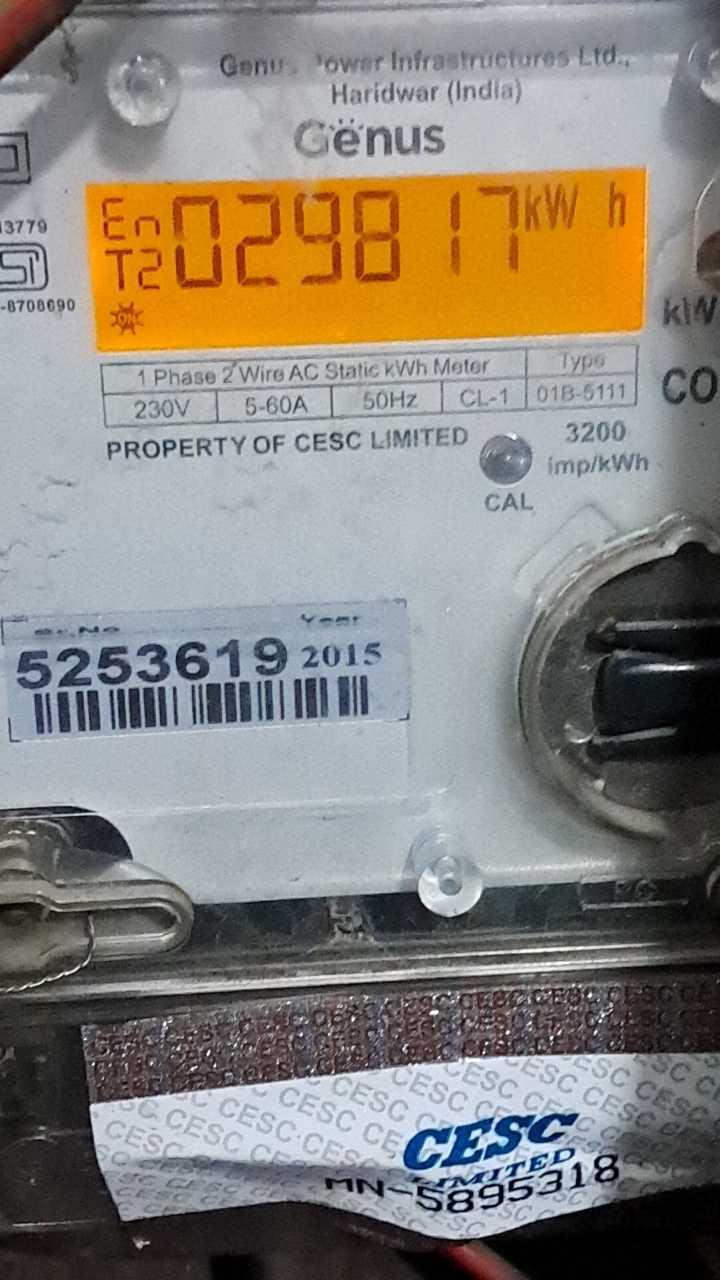meter_readings: (169, 187, 521, 308)
serial_number: (8, 638, 291, 684)
